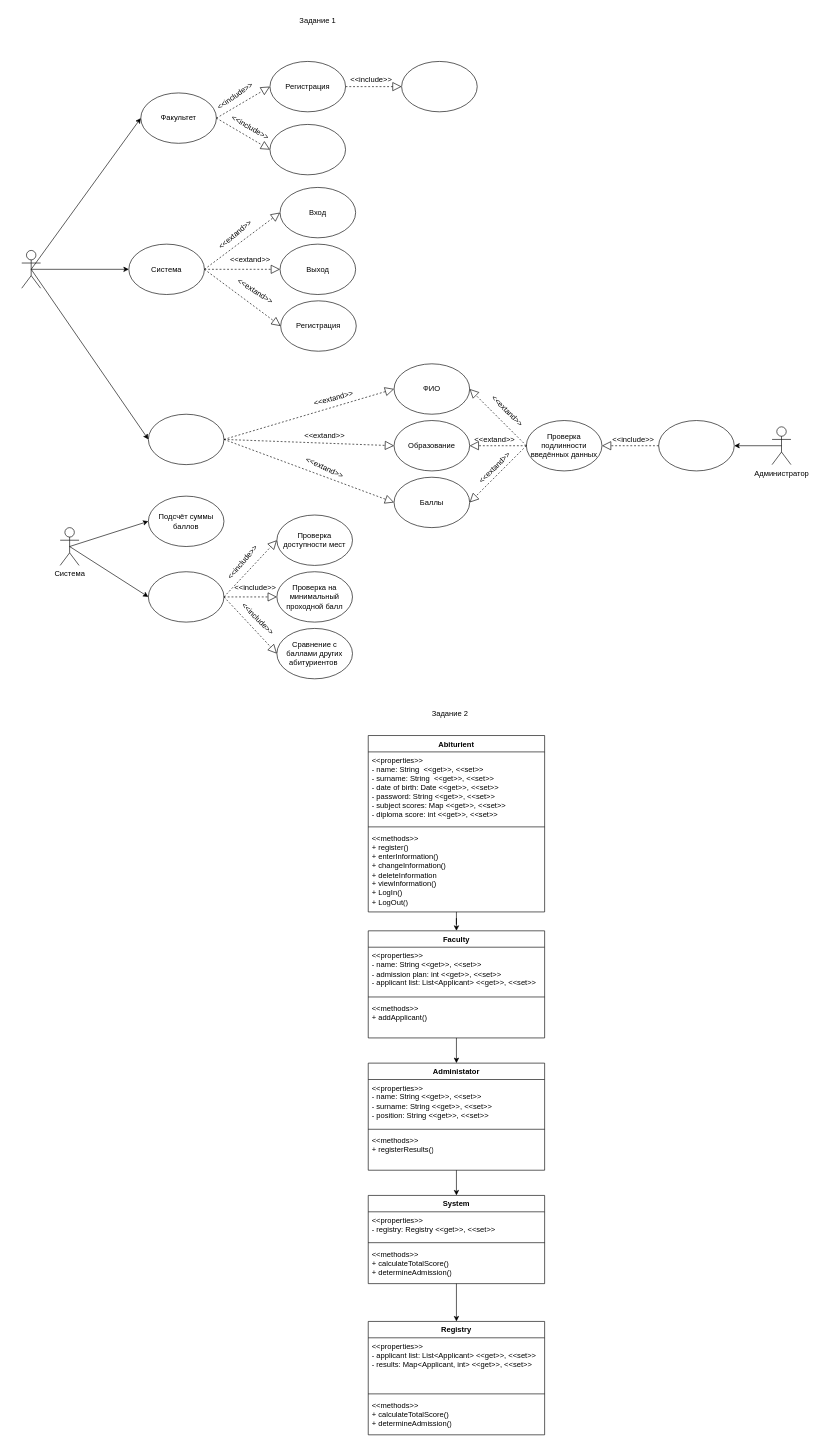
Image size: 820x1447. Some labels were removed from this diagram. The shapes that lost their labels are listed below. From the top down, each one's centre as x and y in pixels, then its label:
point (439, 86): Выбор факультета
point (307, 149): Отмена регистрации
point (31, 269): Абитуриент
point (186, 439): Ввод и изменение данных
point (696, 445): Регистрация результатов
point (186, 596): Определение зачисления
